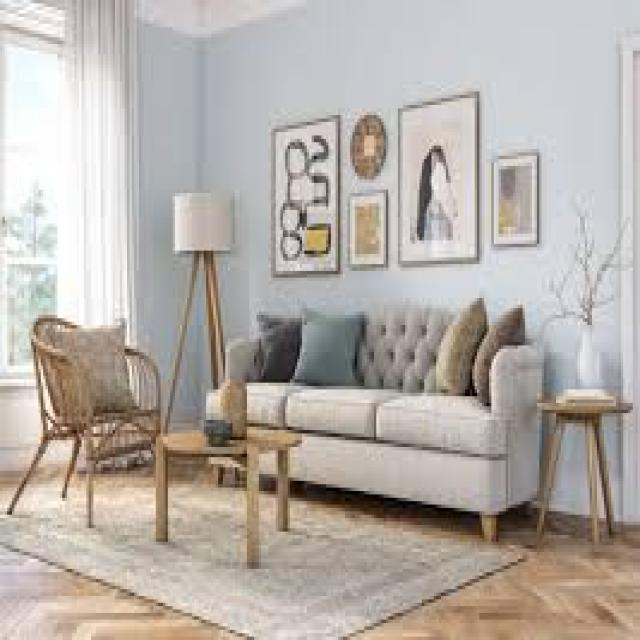Chair: (25, 294, 168, 536)
Lamp: (159, 175, 234, 424)
Sofa: (222, 308, 548, 546)
Table: (147, 416, 307, 571)
